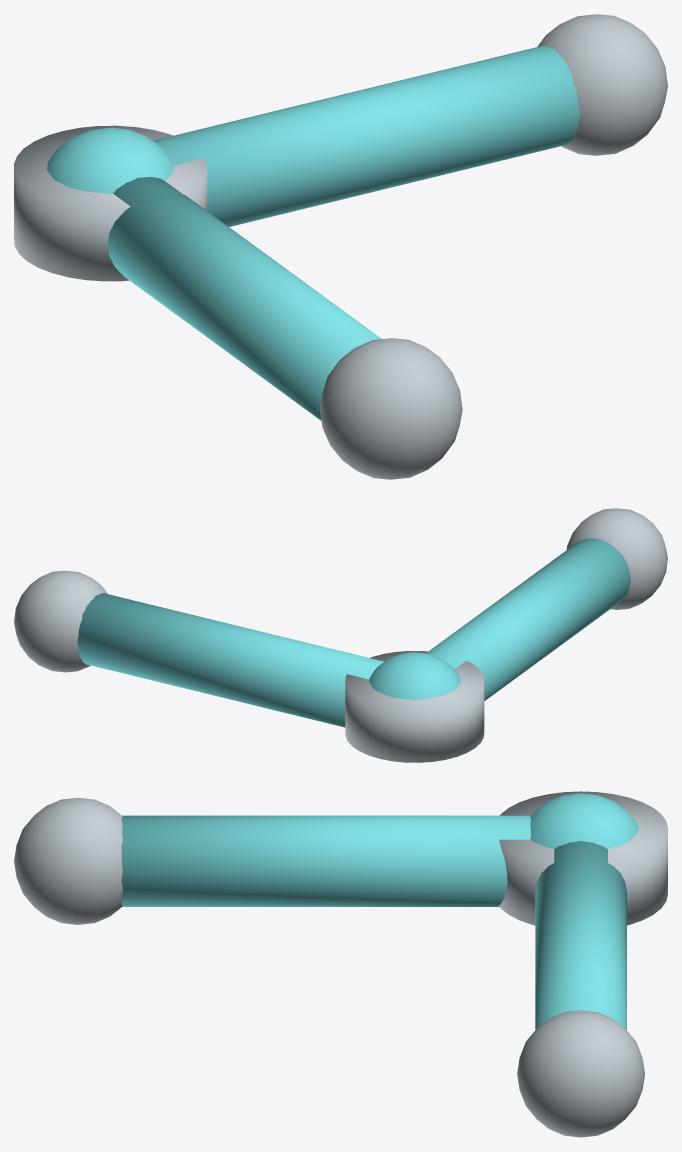
The model's file is conduit_elbow_ultra.glb.
3 renders of one model, top to bottom at view 1: azimuth 30°, elevation 25°; view 2: azimuth 150°, elevation 25°; view 3: azimuth 270°, elevation 25°, orthographic. The views are drawn at different scales.
Visible parts, largest first — view 1: Conduit_cyan, Coupler_steel, JunctionCap_steel, Junction_cyan; view 2: Conduit_cyan, Coupler_steel, JunctionCap_steel, Junction_cyan; view 3: Conduit_cyan, Coupler_steel, JunctionCap_steel, Junction_cyan.
Part boxes in pixels (bbox=[...]): Conduit_cyan: bbox=[107, 46, 579, 420]; Coupler_steel: bbox=[320, 14, 667, 479]; JunctionCap_steel: bbox=[14, 125, 207, 281]; Junction_cyan: bbox=[47, 127, 173, 193]; Conduit_cyan: bbox=[77, 538, 630, 727]; Coupler_steel: bbox=[14, 508, 667, 672]; JunctionCap_steel: bbox=[345, 651, 484, 762]; Junction_cyan: bbox=[369, 652, 460, 699]; Conduit_cyan: bbox=[121, 815, 626, 1029]; Coupler_steel: bbox=[14, 797, 644, 1137]; JunctionCap_steel: bbox=[499, 791, 667, 925]; Junction_cyan: bbox=[530, 793, 638, 849].
Size of the model in its own units: 1.43 by 0.3 by 1.43.
